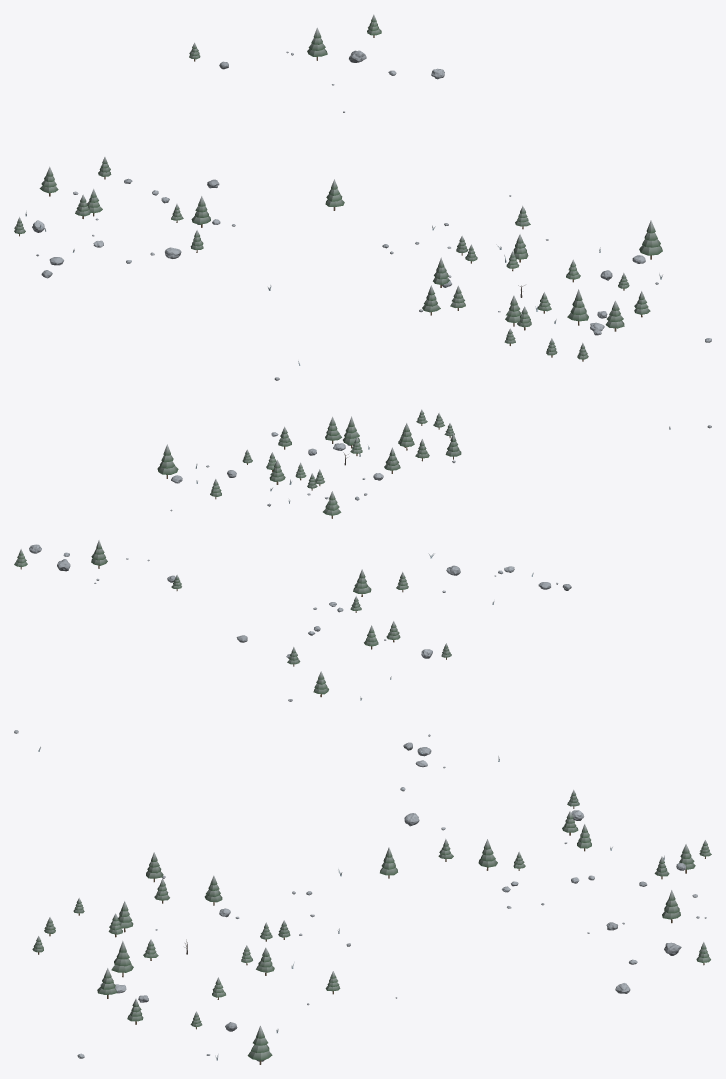
The model's file is frost_land_scatter_c17_09.glb.
3 views of the same model, one above another, from view 1: azimuth 30°, elevation 25°; view 2: azimuth 150°, elevation 25°; view 3: azimuth 270°, elevation 25° (orthographic). The views are drawn at different scales.
Visible parts, largest first — view 1: frost_land_scatter_c17_09; view 2: frost_land_scatter_c17_09; view 3: frost_land_scatter_c17_09.
Part boxes in pixels (x1,y1,x2,y2): frost_land_scatter_c17_09: [14, 14, 711, 380]; frost_land_scatter_c17_09: [14, 409, 711, 701]; frost_land_scatter_c17_09: [14, 730, 711, 1064].
Size of the model in its own units: 230 by 49.27 by 255.
